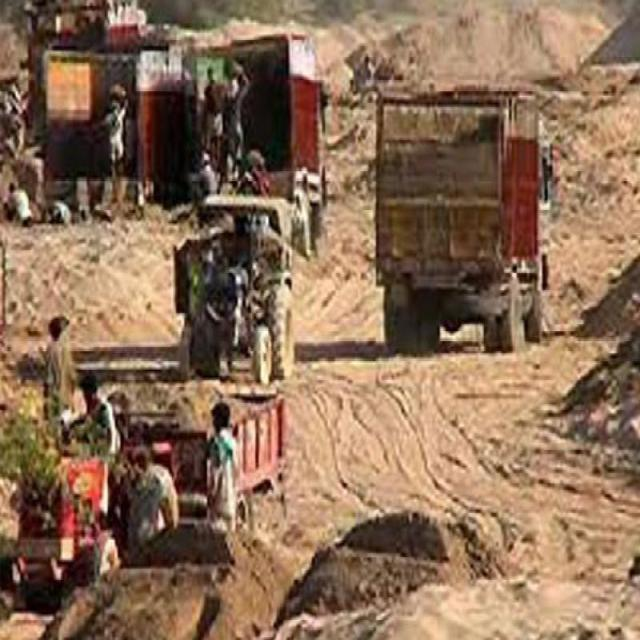uncovered: (374, 75, 538, 336), (183, 41, 332, 199), (108, 357, 282, 444)
